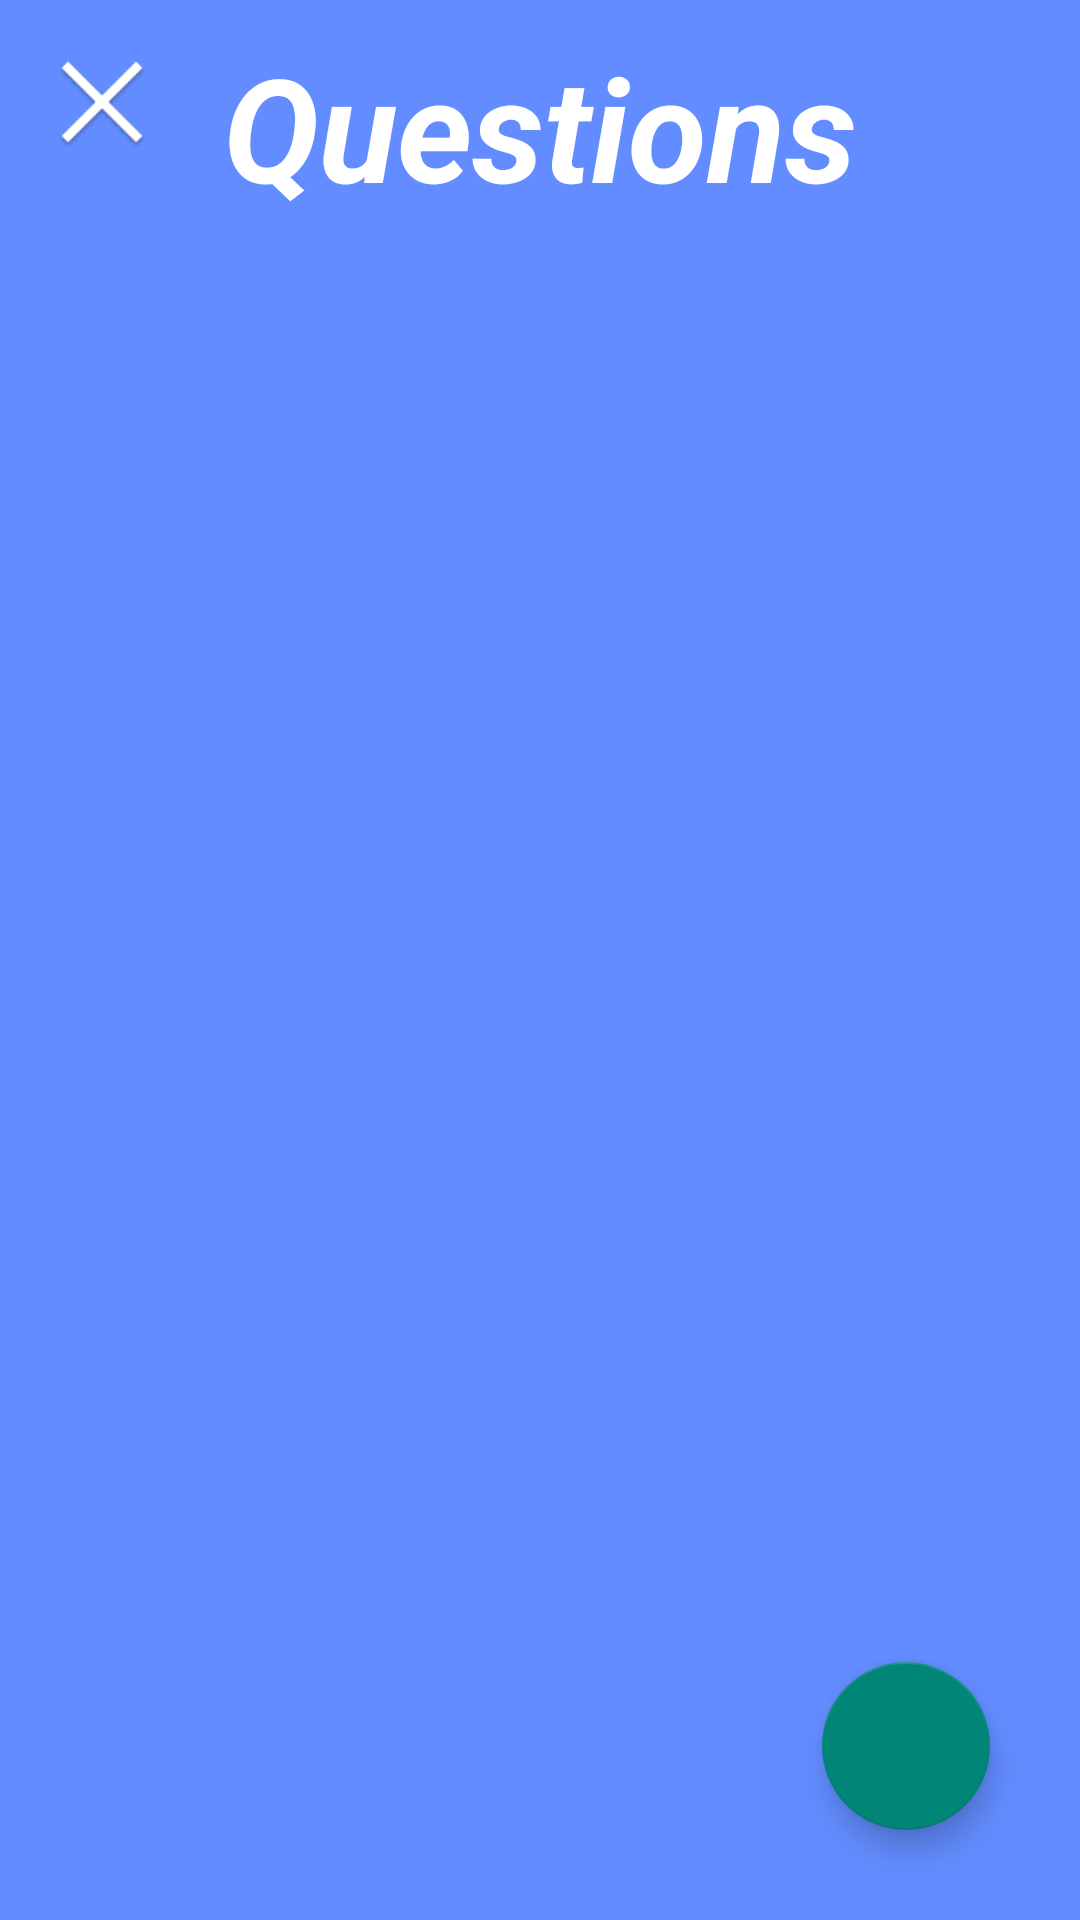

Screen size 1080 x 1920. Icon name, then its box in pixels as (x1, y1, x2, y2):
exit: (61, 61, 143, 144)
